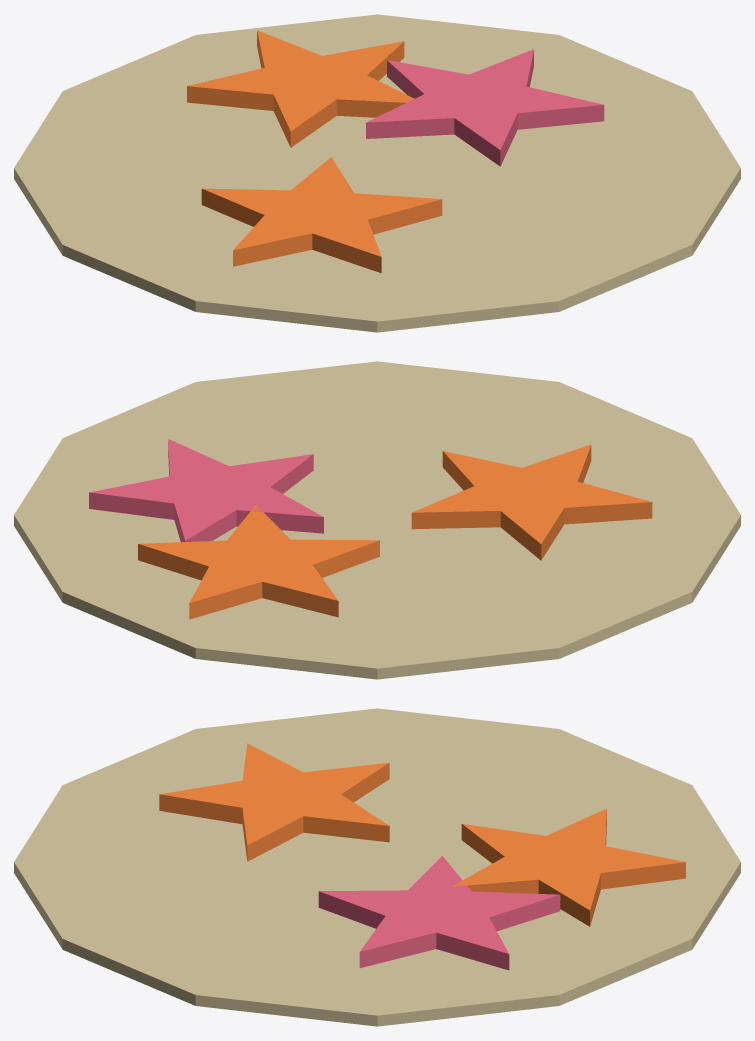
The model's file is env_r15_starfish_patch.glb.
The picture shows the model from 3 angles, top to bottom: view 1: azimuth 30°, elevation 25°; view 2: azimuth 150°, elevation 25°; view 3: azimuth 270°, elevation 25°; orthographic projection.
Visible parts, largest first — view 1: env_r15_starfish_patch; view 2: env_r15_starfish_patch; view 3: env_r15_starfish_patch.
Part boxes in pixels (x1,y1,x2,y2): env_r15_starfish_patch: (14, 14, 740, 332); env_r15_starfish_patch: (14, 361, 740, 679); env_r15_starfish_patch: (14, 708, 740, 1026).
Size of the model in its own units: 2.4 by 0.1 by 2.4.
1 material, 1 textured.
